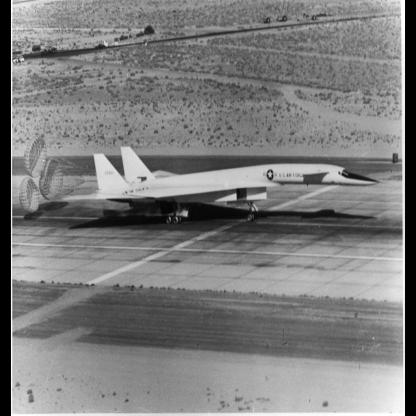XB70: (63, 147, 388, 225)
